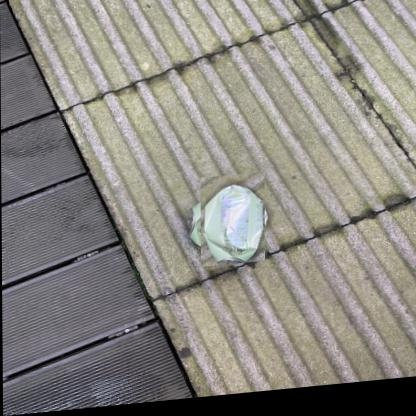trash: (191, 185, 266, 261)
